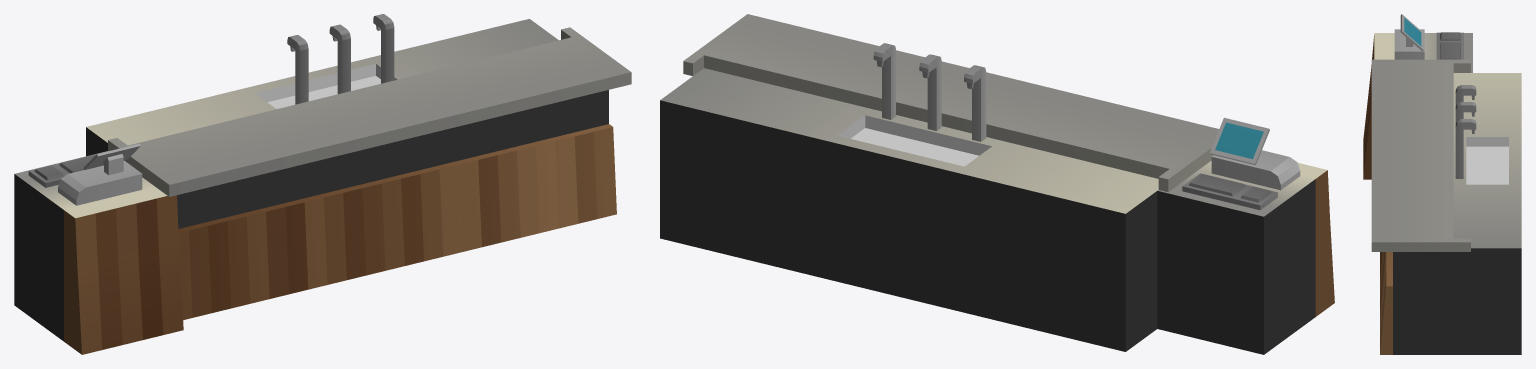
The model's file is B01_Bar_2.fbx.
3 renders of one model, left to right at view 1: azimuth 30°, elevation 25°; view 2: azimuth 150°, elevation 25°; view 3: azimuth 270°, elevation 25°, orthographic. The views are drawn at different scales.
Visible parts, largest first — view 1: B01_Bar_2; view 2: B01_Bar_2; view 3: B01_Bar_2.
Part boxes in pixels (x1,y1,x2,y2): B01_Bar_2: (14,14,631,354); B01_Bar_2: (660,14,1334,354); B01_Bar_2: (1363,14,1521,354).
Bounding box in the file's own units: 374 × 130 × 114.
